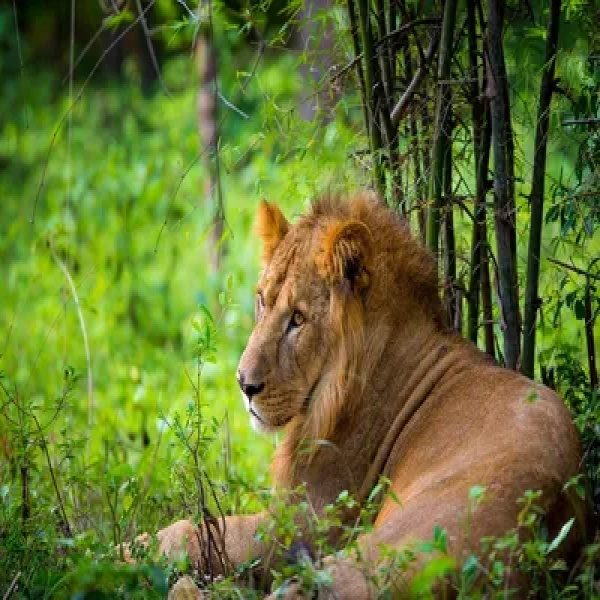Lion: (118, 185, 589, 599)
